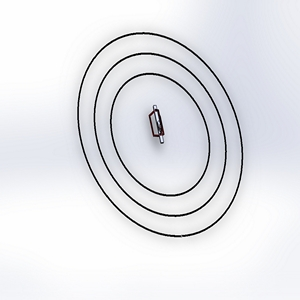circle: (68, 25, 251, 243)
submarine: (134, 100, 178, 150)
